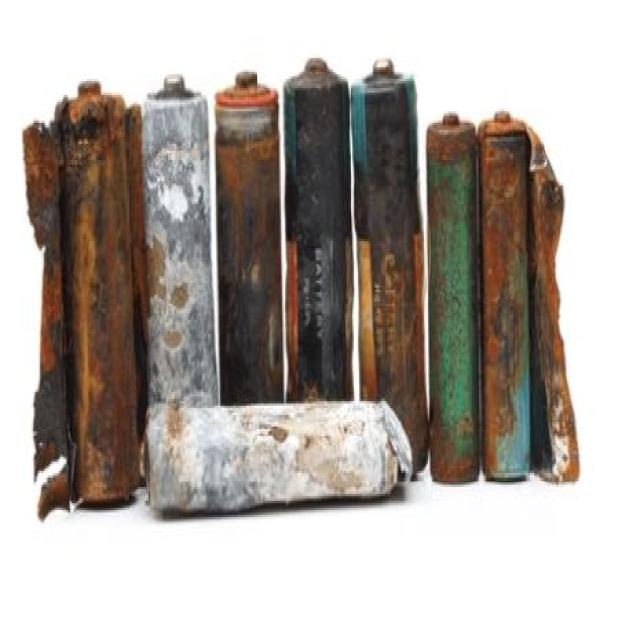electronic: (343, 48, 431, 374)
